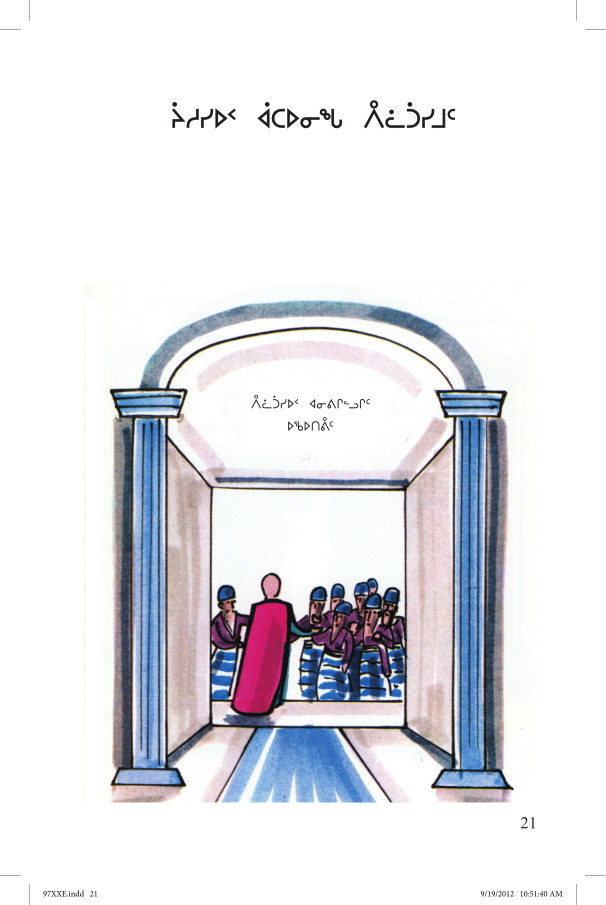inuktitut: (157, 91, 461, 139), (239, 384, 380, 441)
